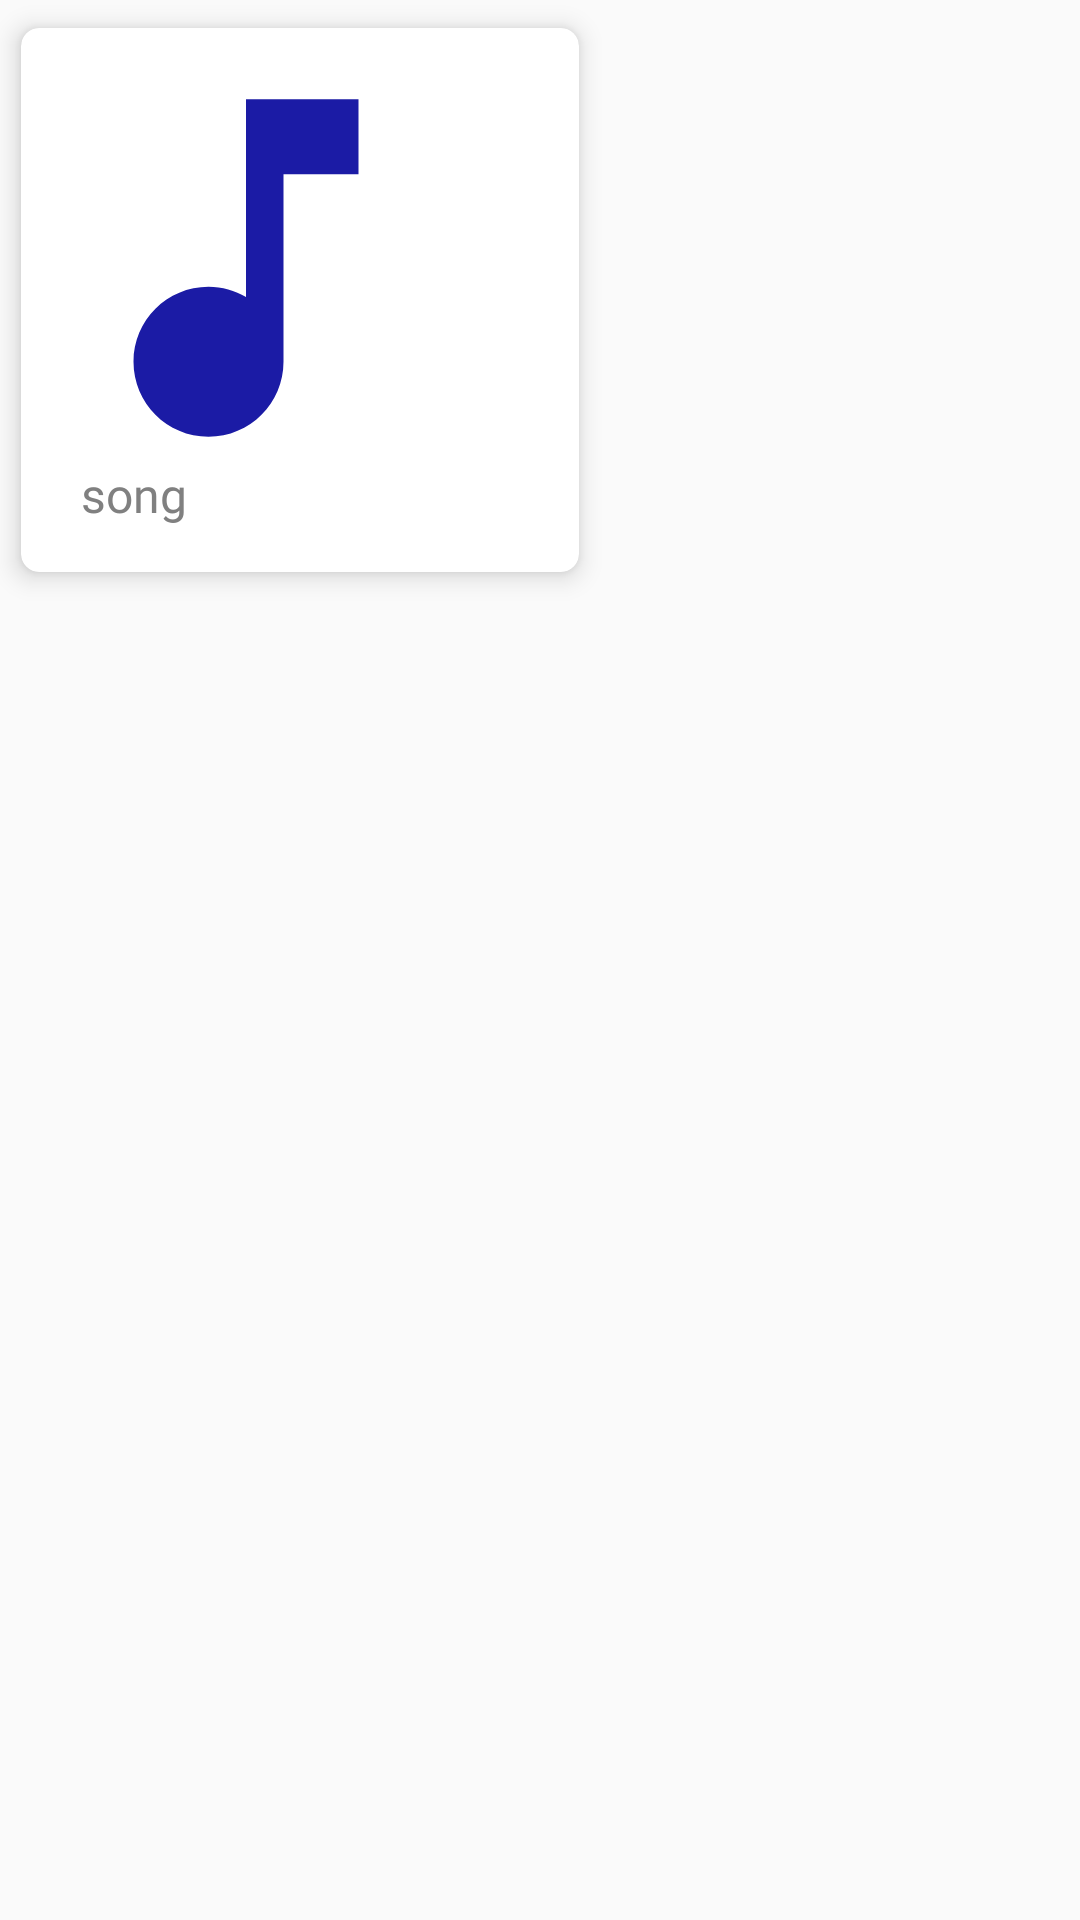

Icons on this 1080px×1920px Android screen, each with its box as bbox=(x1, y1, x2, y2):
music note: bbox=(133, 99, 359, 437)
